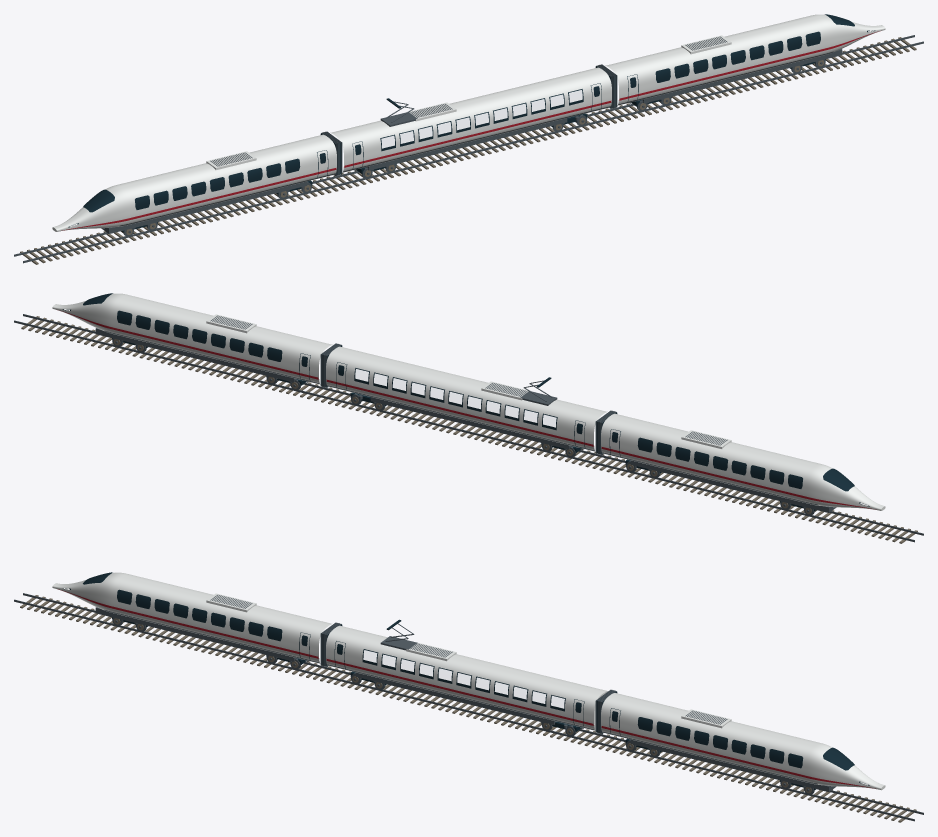
The model's file is high-speed-train.glb.
3 renders of one model, top to bottom at view 1: azimuth 30°, elevation 25°; view 2: azimuth 150°, elevation 25°; view 3: azimuth 330°, elevation 25°, orthographic.
Parts seen in each view (by area): view 1: Rear power car body, Front power car body, Passenger carriage roof, Passenger carriage lower body, Rail head (×2), Rail web, Rear power car underfloor cabinets, Front power car underfloor cabinets, Passenger carriage underfloor cabinets, Passenger carriage red waist stripe, Rear power car red waist stripe, Front power car red waist stripe; view 2: Rear power car body, Front power car body, Passenger carriage roof, Passenger carriage lower body, Rail head (×2), Rail web, Rear power car underfloor cabinets, Front power car underfloor cabinets, Passenger carriage underfloor cabinets, Passenger carriage red waist stripe, Rear power car red waist stripe, Front power car red waist stripe; view 3: Front power car body, Rear power car body, Passenger carriage roof, Passenger carriage lower body, Rail head (×2), Rail web, Front power car underfloor cabinets, Rear power car underfloor cabinets, Passenger carriage underfloor cabinets, Passenger carriage red waist stripe, Front power car red waist stripe, Rear power car red waist stripe.
Part boxes in pixels (box(x1,y1,x2,y2)): Rear power car body: box(53, 134, 336, 231); Front power car body: box(605, 14, 885, 105); Passenger carriage roof: box(330, 67, 610, 147); Passenger carriage lower body: box(342, 94, 611, 172); Rail head (×2): box(14, 35, 923, 262); Rail web: box(23, 42, 923, 263); Rear power car underfloor cabinets: box(101, 181, 307, 233); Front power car underfloor cabinets: box(642, 49, 842, 103); Passenger carriage underfloor cabinets: box(366, 118, 567, 170); Passenger carriage red waist stripe: box(344, 100, 611, 167); Rear power car red waist stripe: box(61, 168, 336, 230); Front power car red waist stripe: box(619, 31, 880, 100); Rear power car body: box(601, 413, 884, 510); Front power car body: box(52, 293, 332, 384); Passenger carriage roof: box(327, 346, 607, 426); Passenger carriage lower body: box(326, 373, 595, 451); Rail head (×2): box(14, 314, 923, 541); Rail web: box(14, 321, 914, 542); Rear power car underfloor cabinets: box(630, 460, 836, 512); Front power car underfloor cabinets: box(95, 328, 295, 382); Passenger carriage underfloor cabinets: box(370, 397, 571, 449); Passenger carriage red waist stripe: box(326, 379, 593, 446); Rear power car red waist stripe: box(601, 447, 876, 509); Front power car red waist stripe: box(57, 310, 318, 379); Front power car body: box(601, 693, 884, 789); Rear power car body: box(52, 572, 331, 663); Passenger carriage roof: box(327, 625, 607, 705); Passenger carriage lower body: box(326, 652, 595, 730); Rail head (×2): box(14, 593, 923, 820); Rail web: box(14, 601, 914, 821); Front power car underfloor cabinets: box(630, 739, 836, 791); Rear power car underfloor cabinets: box(95, 607, 296, 661); Passenger carriage underfloor cabinets: box(355, 672, 556, 724); Passenger carriage red waist stripe: box(326, 658, 593, 725); Front power car red waist stripe: box(601, 726, 875, 788); Rear power car red waist stripe: box(57, 589, 318, 658).
Size of the model in its own units: 84 by 5.96 by 3.03.
